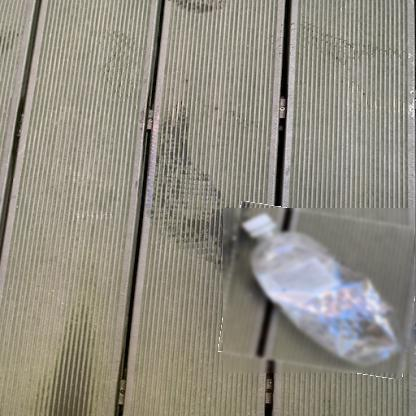plastic-bottles: (223, 208, 415, 374)
